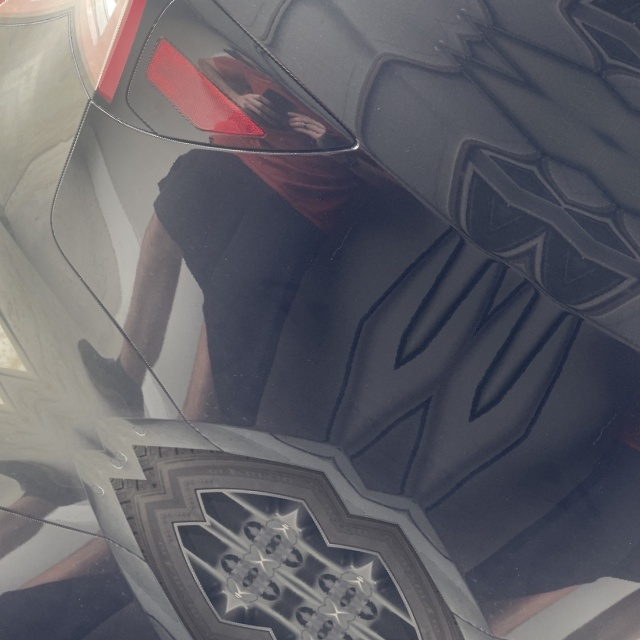reflector: (129, 34, 278, 162)
